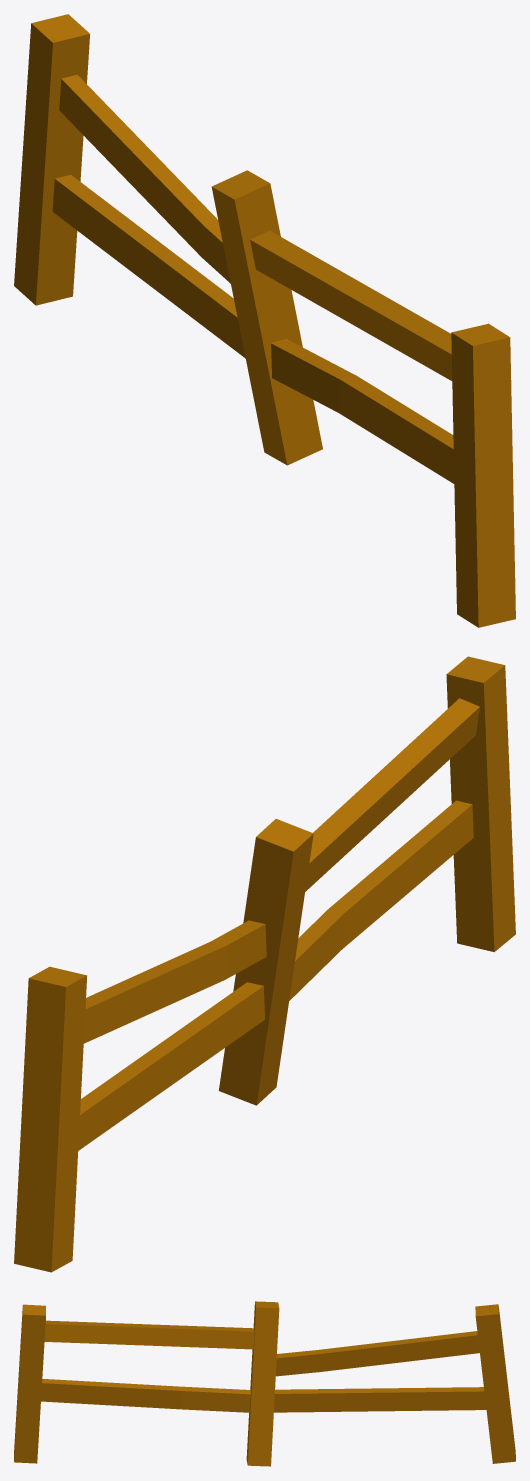
File: fence01.glb
3 views of the same model, one above another, from view 1: azimuth 30°, elevation 25°; view 2: azimuth 150°, elevation 25°; view 3: azimuth 270°, elevation 25° (orthographic). The views are drawn at different scales.
Visible parts, largest first — view 1: Cube; view 2: Cube; view 3: Cube.
Boxes of the visible parts, box(x1,y1,x2,y2) form: Cube: box(14, 14, 515, 627); Cube: box(14, 656, 515, 1272); Cube: box(14, 1301, 515, 1466).
Bounding box in the file's own units: 1.34 × 4.29 × 12.93.
